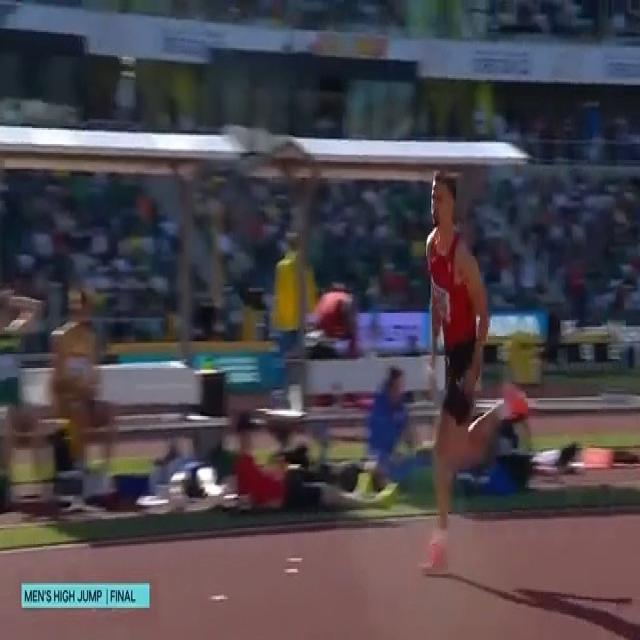run: (420, 171, 530, 578)
